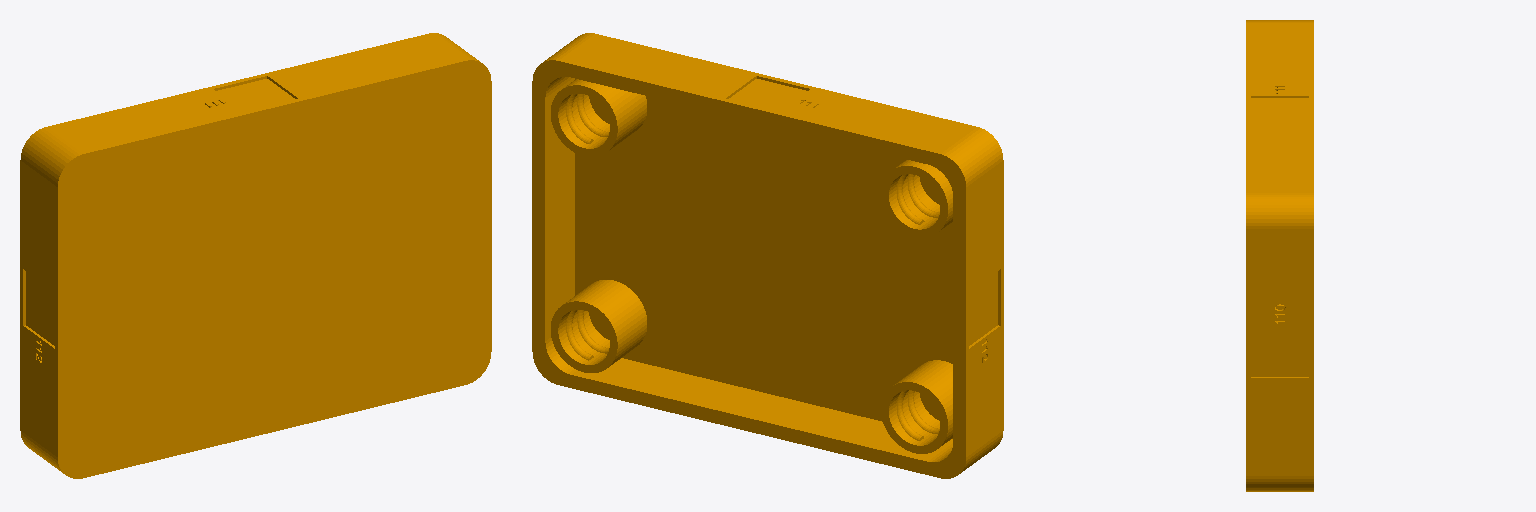
The robot description file, URDF, robot "desk_top":
<?xml version="1.0"?>
<robot name="desk_top">
    <link name="desk_top">
        <visual>
            <geometry>
                <mesh filename="../../mesh/desk/desk_top.obj" scale="1 1 1"/>
            </geometry>
        </visual>
        <collision>
            <geometry>
                <mesh filename="../../mesh/desk/desk_top.obj" scale="1 1 1"/>
            </geometry>
            <sdf resolution="512"/>
        </collision>
    </link>
</robot>

--- Render facts (derived) ---
Views: 3 orthographic renders of the robot side by side, from view 1: azimuth 30°, elevation 25°; view 2: azimuth 150°, elevation 25°; view 3: azimuth 270°, elevation 25°.
Robot: desk_top — 1 links, 0 joints (none); root link desk_top; default pose: every joint at zero.
Visible links, largest first — view 1: desk_top; view 2: desk_top; view 3: desk_top.
Link boxes in pixels (x1,y1,x2,y2): desk_top: (20, 33, 491, 478); desk_top: (532, 33, 1003, 478); desk_top: (1246, 20, 1313, 491).
Bounding box of the posed robot: 0.21 × 0.0312 × 0.15 m (x, y, z).
1 mesh visuals loaded from 1 distinct referenced files (1 OBJ).